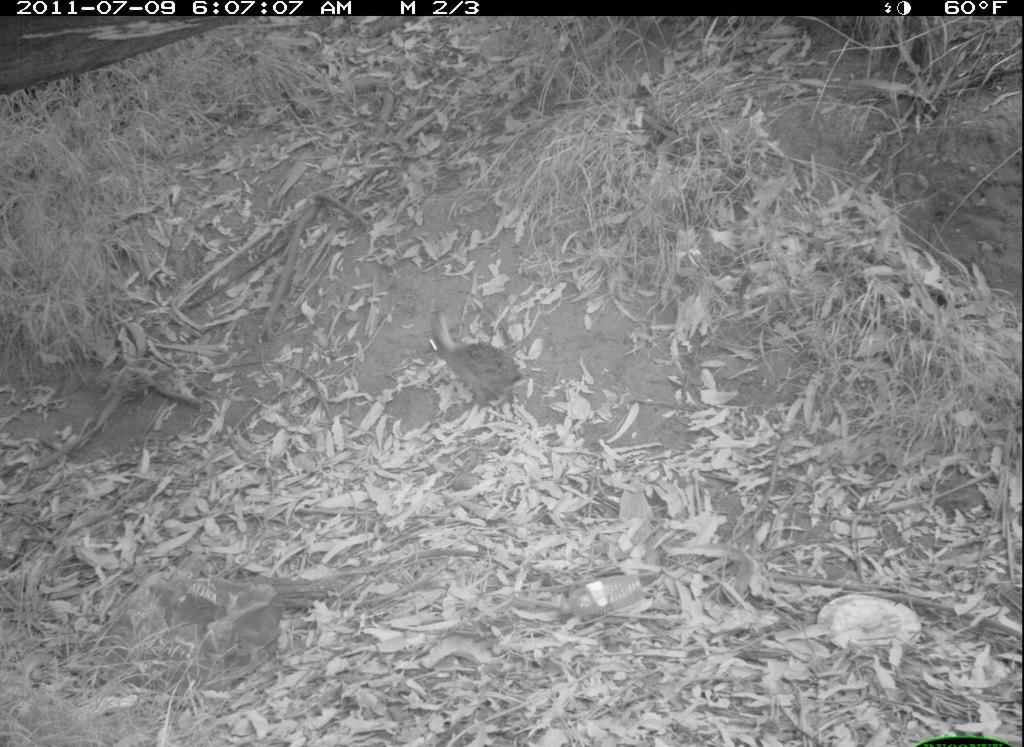rabbit: (417, 306, 532, 420)
